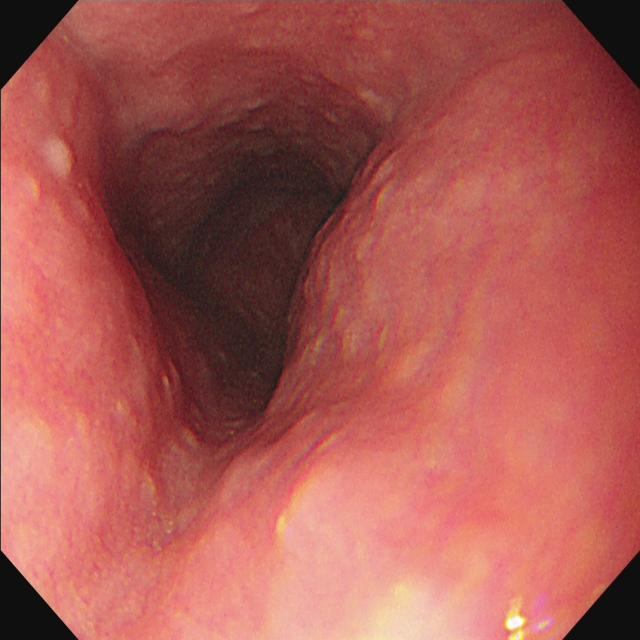A: (61, 190, 207, 467), (287, 130, 427, 393)
E: (156, 152, 338, 380)
U: (505, 599, 530, 640)
